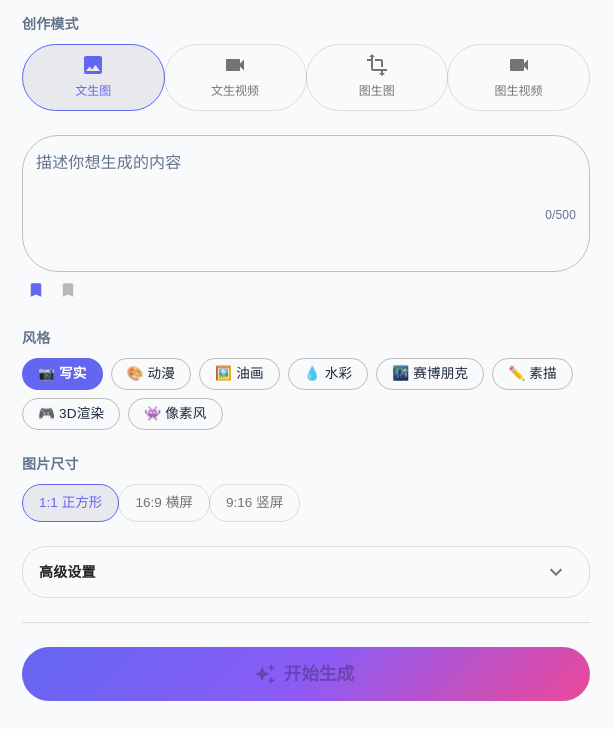
Scenario: CreationPanel › 输入提示词后生成按钮应可用
Type "一只可爱的猫咪" into the text box with placeholder "例如：一只在月光下奔跑的白色狐狸，雪景背景，动漫风格..." at coordinates (306, 204), box [36,152,576,256]
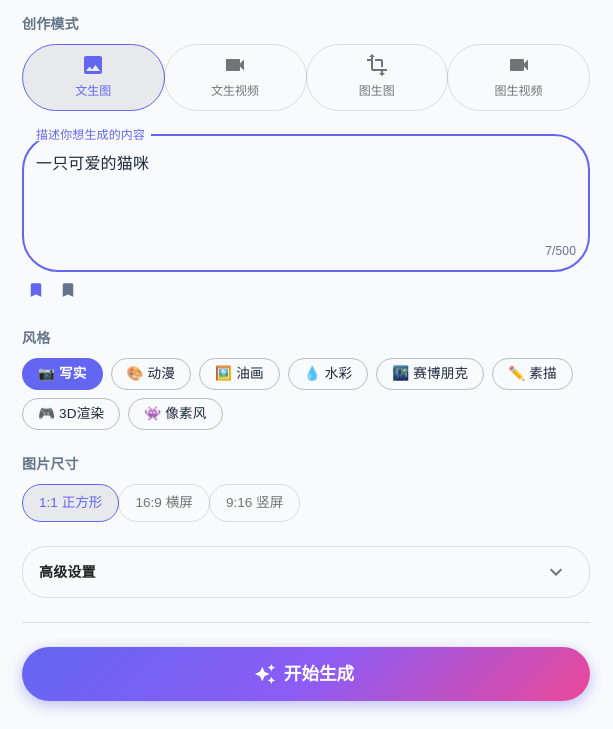
Expected: the button "开始生成" is enabled, [22,647,590,702]
